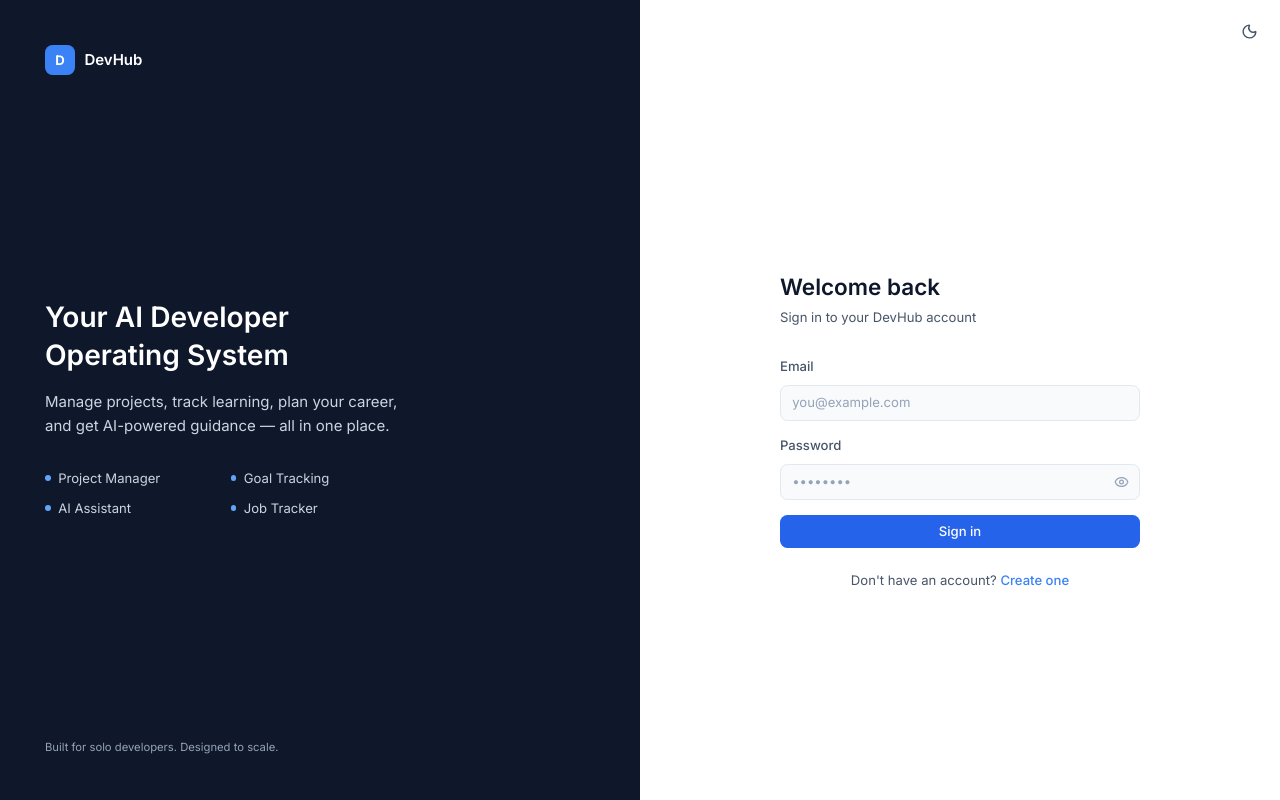
LoginPage › shows validation errors for an invalid email and short password
The image size is (1280, 800).
In the field labelled "Email": point(960, 403) left=780, top=385, right=1140, bottom=421, type "not-an-email"
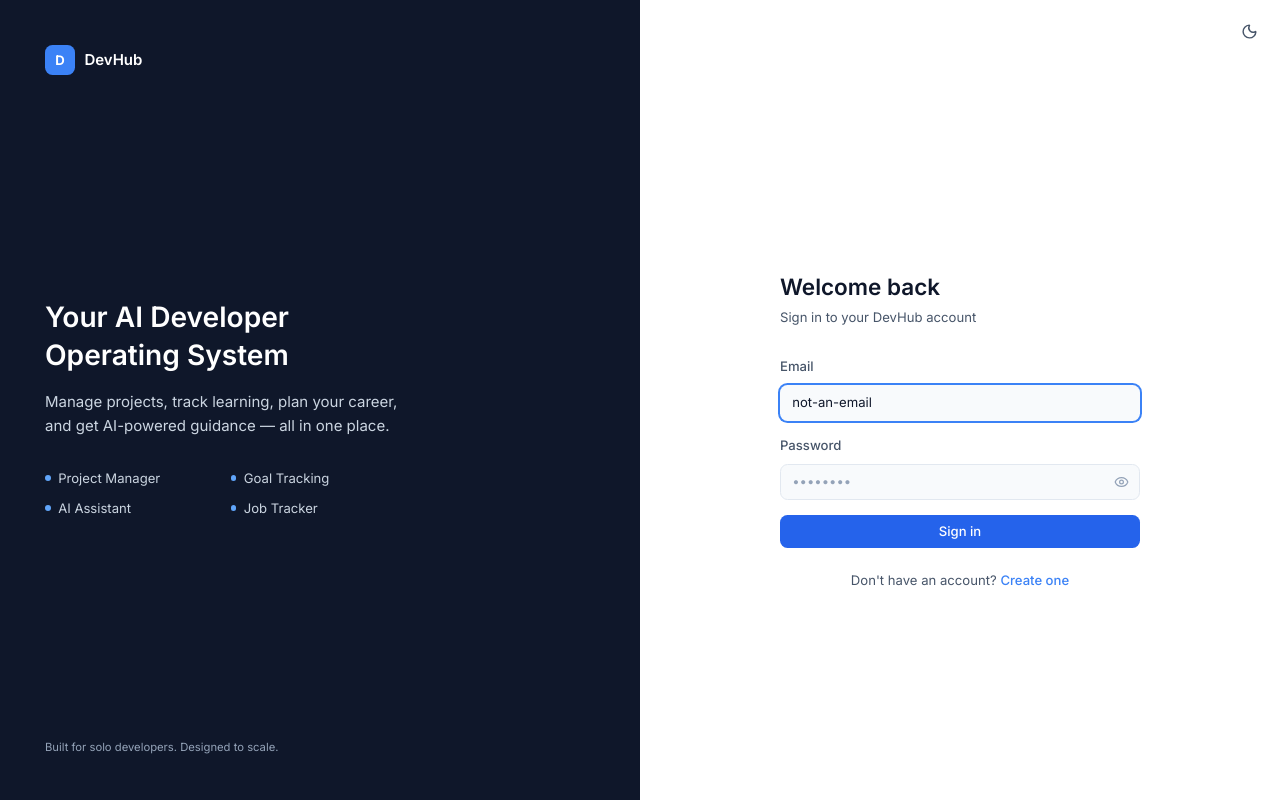
In the password field labelled "Password": point(960, 482) left=780, top=464, right=1140, bottom=500, type "short"
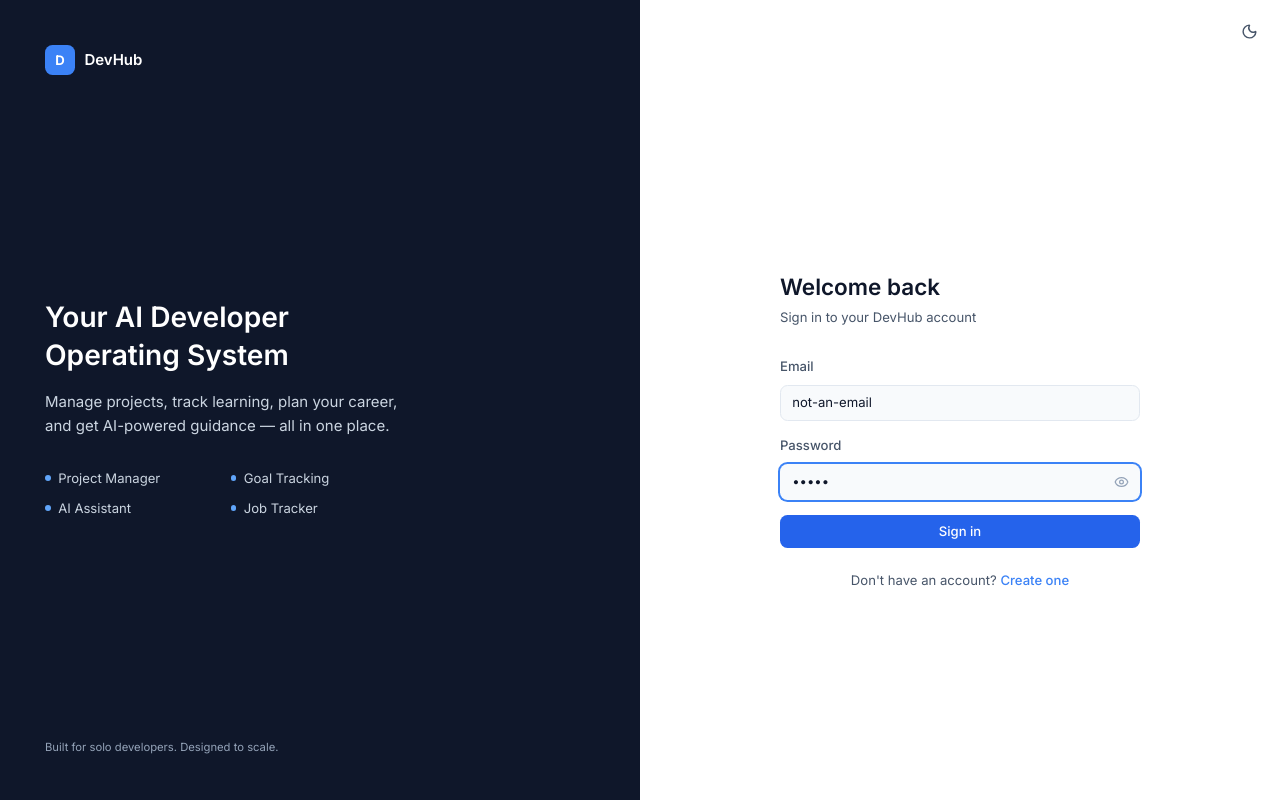
Click the button "Sign in": point(960, 532) left=780, top=515, right=1140, bottom=548
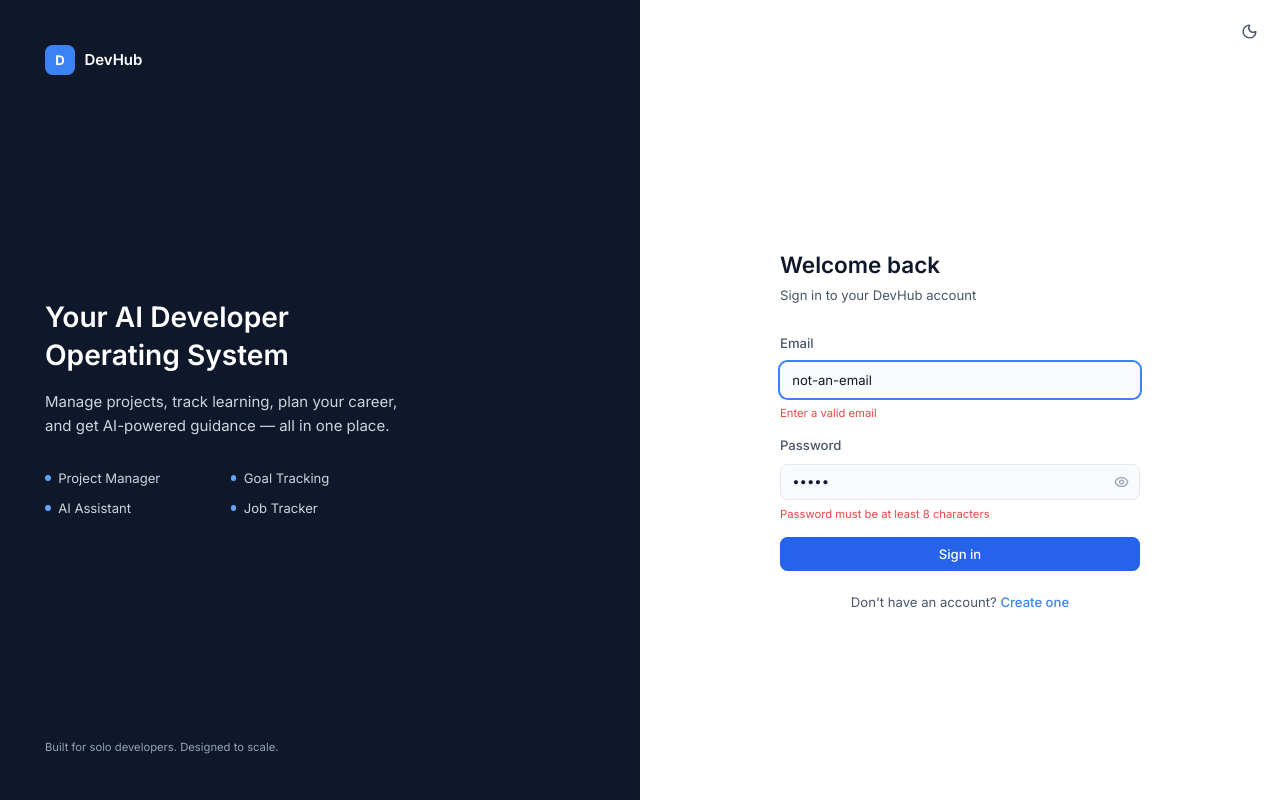
Expected: the text "Enter a valid email" is shown, left=780, top=406, right=877, bottom=420
Expected: the text "Password must be at least 8 characters" is shown, left=780, top=507, right=990, bottom=521
